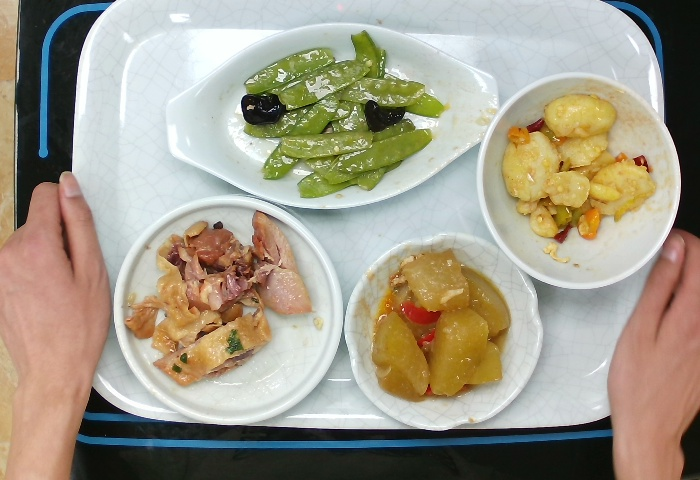JYsf-Ao_Yuan_Wan: (338, 226, 547, 437)
JYsf-Fan_Wan: (470, 64, 688, 295)
JYsf-Xiao_Yuan_Pan: (110, 194, 350, 432)
JYsf-Yu_Pan: (157, 19, 501, 214)
